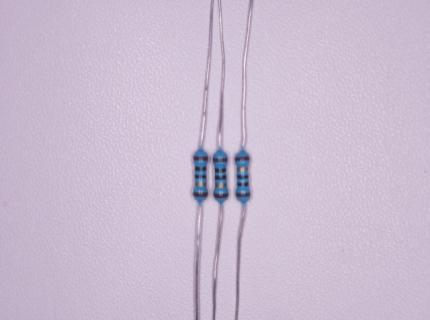Black band: (237, 175, 249, 179), (195, 175, 206, 179), (195, 167, 206, 171), (215, 168, 226, 172), (215, 176, 226, 180), (238, 182, 249, 186)
Brown band: (193, 192, 208, 197), (194, 156, 208, 161), (213, 158, 227, 162), (235, 157, 249, 161), (214, 193, 228, 197), (237, 193, 250, 197)
Gold band: (237, 166, 249, 171), (215, 183, 226, 187), (195, 183, 206, 187)
